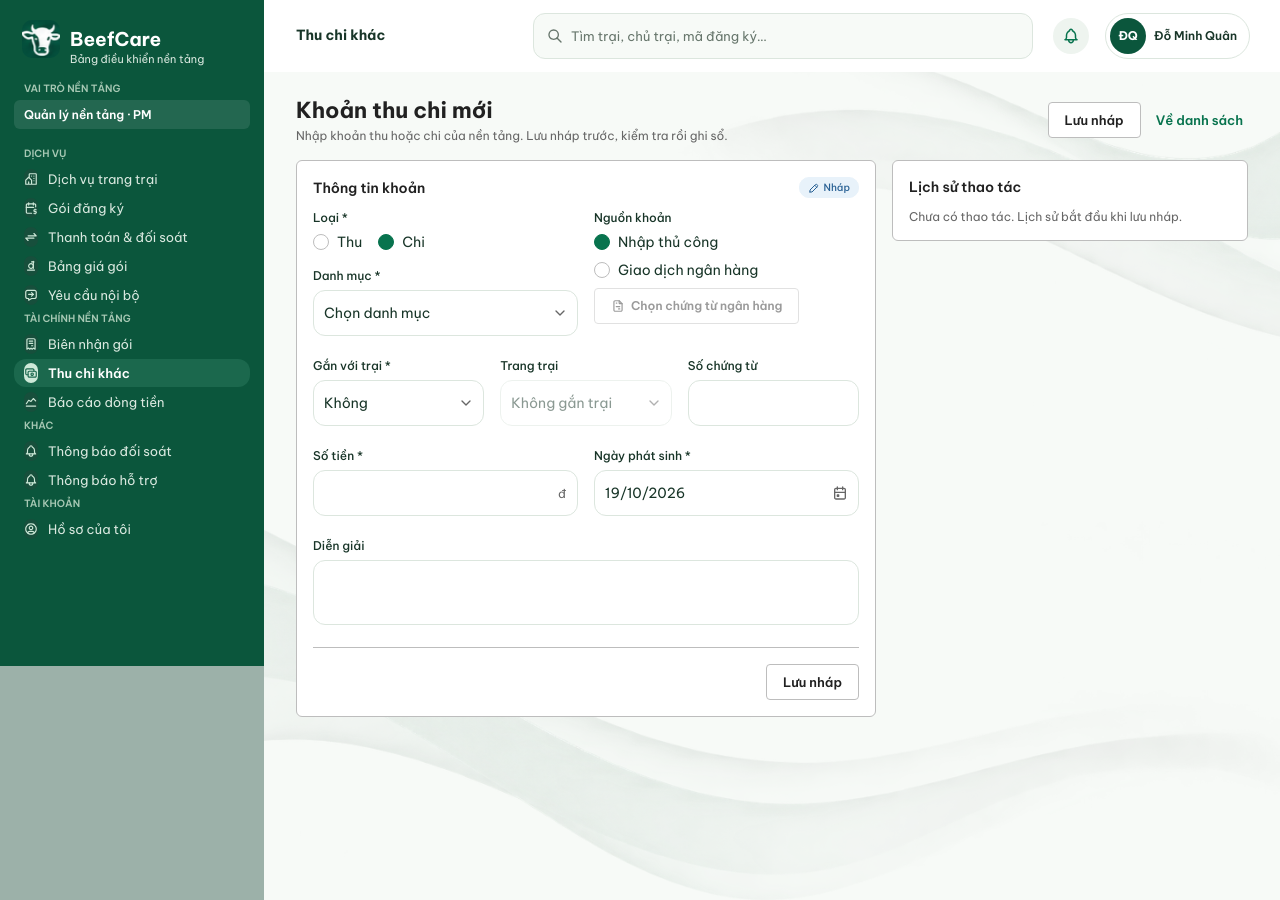
SCR-72 form khoản: nguồn ngân hàng › khoản Chi chỉ chọn được giao dịch tiền ra
This screenshot has width=1280, height=900.
Step 1. Click the radio button labelled "Giao dịch ngân hàng" → (676, 270), box [594,260,758,280]
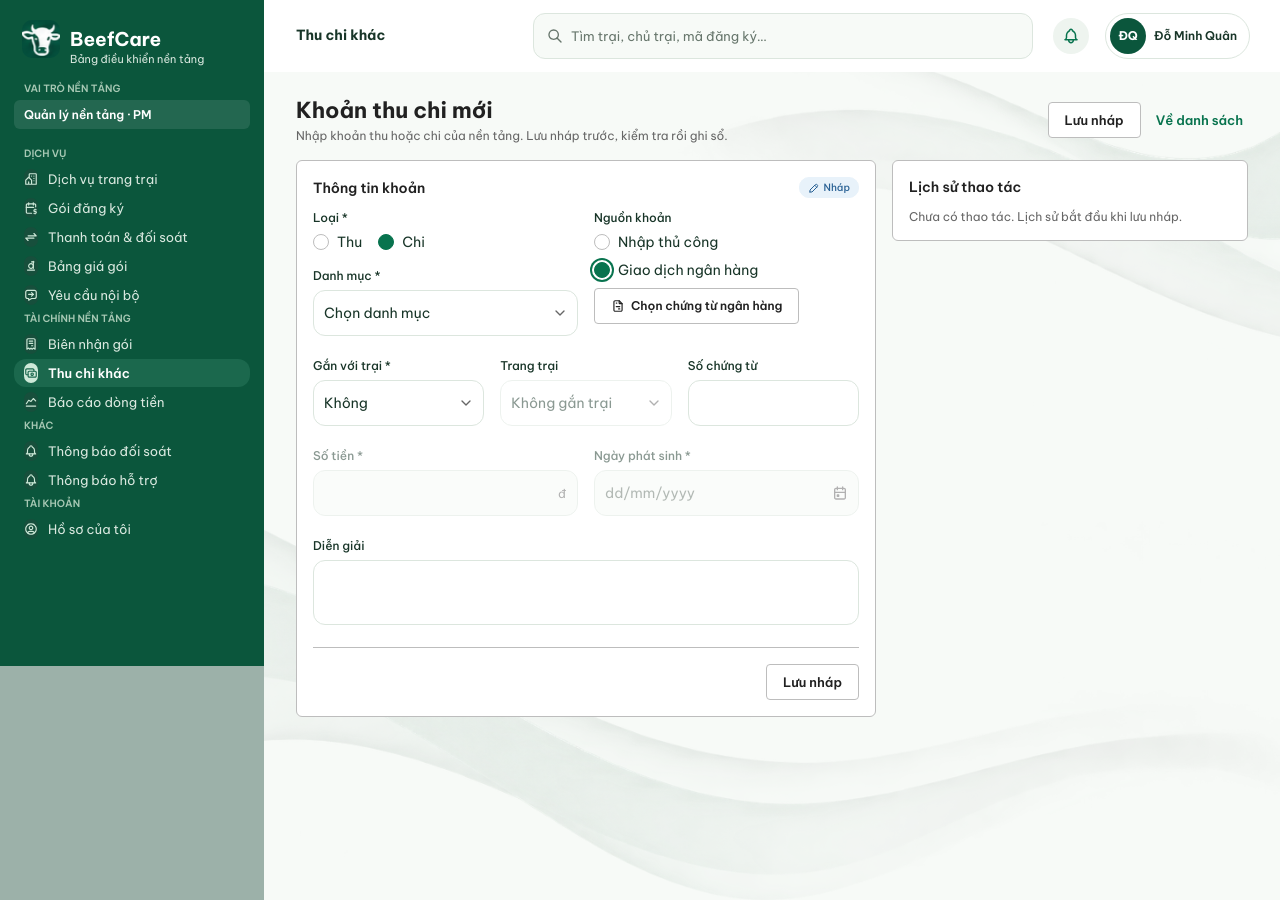
Step 2. Click the button "Chọn chứng từ ngân hàng" → (697, 306), box [594,288,799,324]
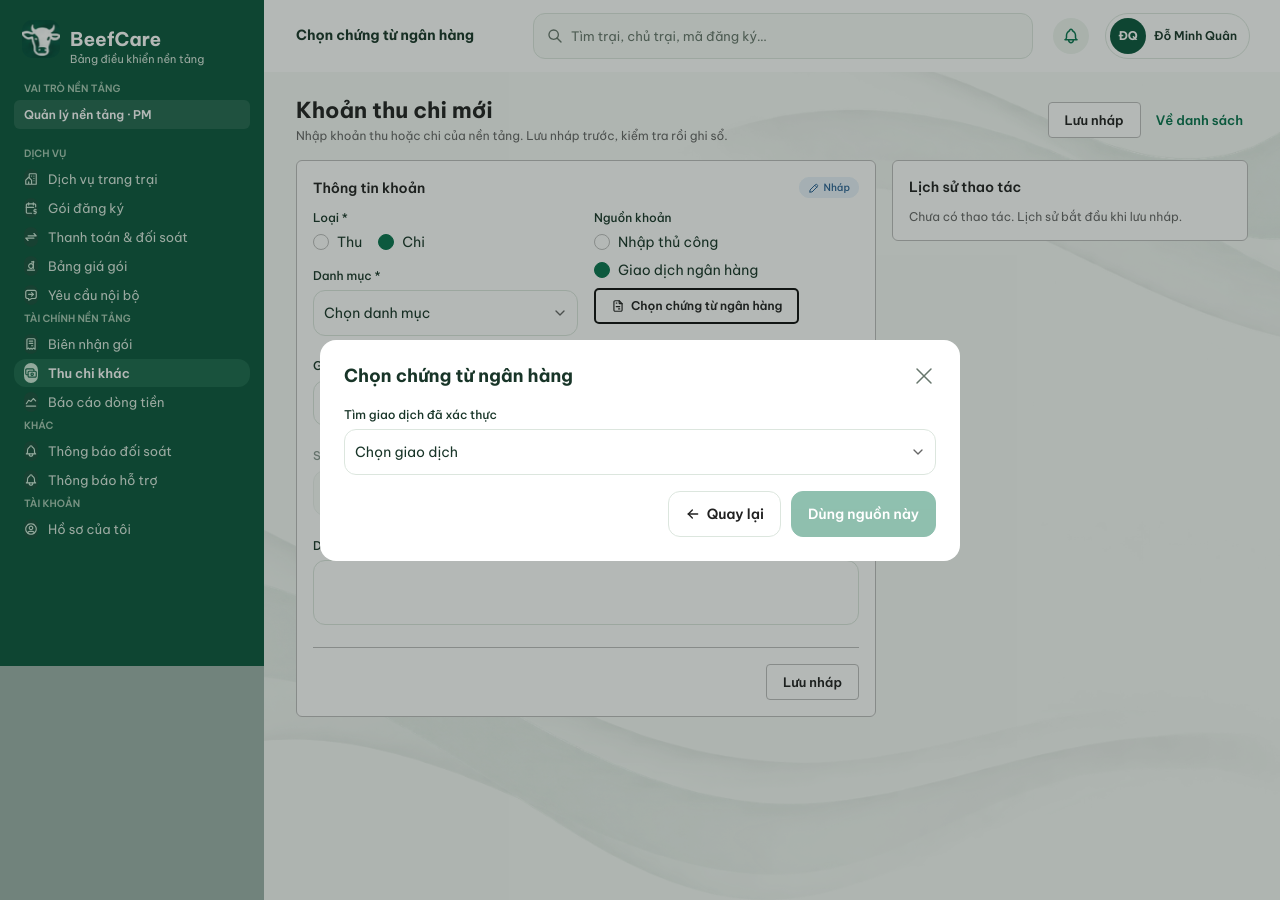
Expected: the dropdown labelled "Tìm giao dịch đã xác thực" is shown, [344,428,936,474]
